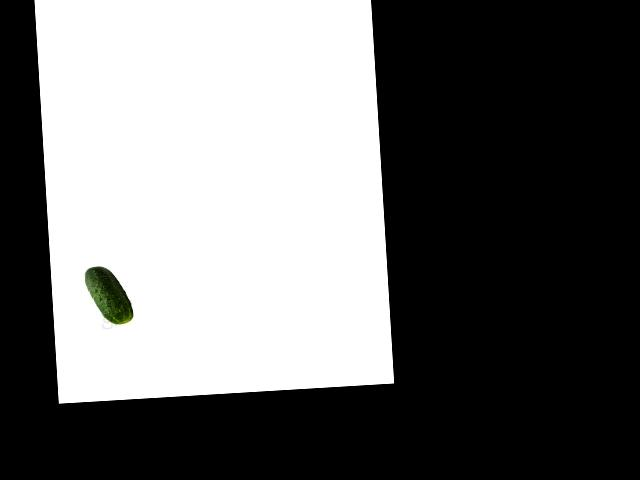cucumber: (84, 264, 133, 326)
